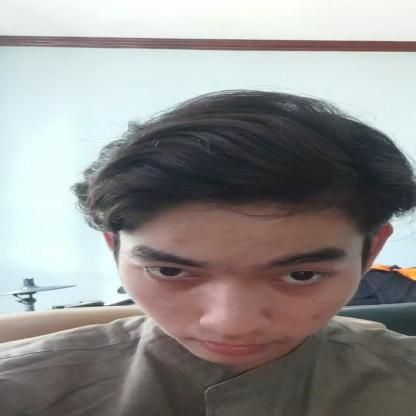Palm: (39, 83, 415, 380)
